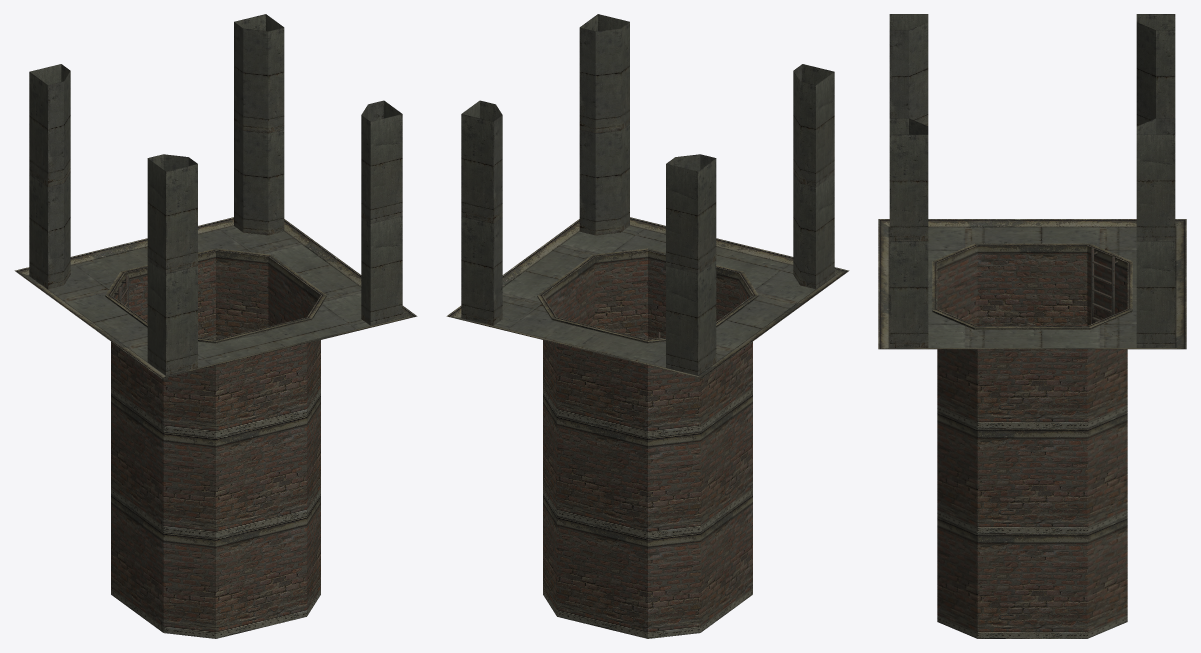
File: structure_piece_rg_1_1.glb
3 views of the same model, side by side, from view 1: azimuth 30°, elevation 25°; view 2: azimuth 150°, elevation 25°; view 3: azimuth 270°, elevation 25° (orthographic). The views are drawn at different scales.
Visible parts, largest first — view 1: structure_piece_rg_1_1; view 2: structure_piece_rg_1_1; view 3: structure_piece_rg_1_1.
Boxes of the visible parts, x1,y1,x2,y2 form: structure_piece_rg_1_1: [14, 14, 417, 638]; structure_piece_rg_1_1: [446, 14, 849, 638]; structure_piece_rg_1_1: [878, 14, 1186, 638].
Bounding box in the file's own units: 8 × 15 × 8.
4 materials, 4 textured.
